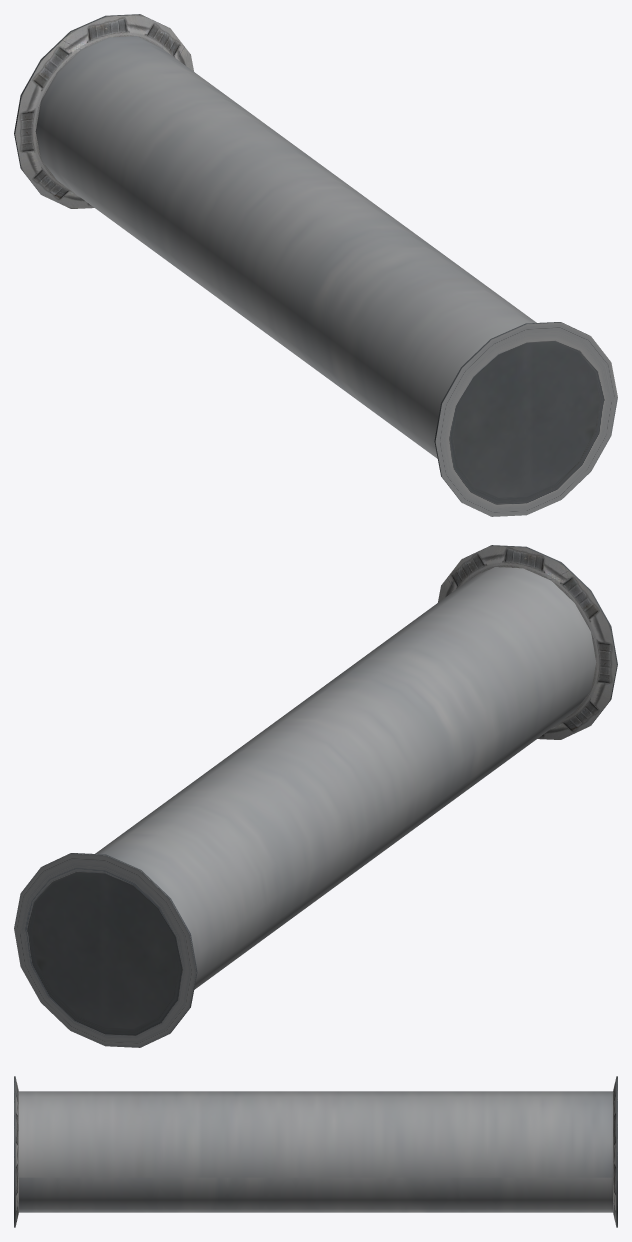
Rendered from SM_PillarCompTubs2c.fbx.
The picture shows the model from 3 angles, top to bottom: view 1: azimuth 30°, elevation 25°; view 2: azimuth 150°, elevation 25°; view 3: azimuth 270°, elevation 25°; orthographic projection. The views are drawn at different scales.
Parts seen in each view (by area): view 1: SM_PillarCompTubs2c_LOD0; view 2: SM_PillarCompTubs2c_LOD0; view 3: SM_PillarCompTubs2c_LOD0.
Part boxes in pixels (x1,y1,x2,y2): SM_PillarCompTubs2c_LOD0: [14, 14, 617, 516]; SM_PillarCompTubs2c_LOD0: [14, 545, 617, 1047]; SM_PillarCompTubs2c_LOD0: [14, 1076, 617, 1227].
Size of the model in its own units: 50 by 200 by 50.
2 materials, 2 textured.
